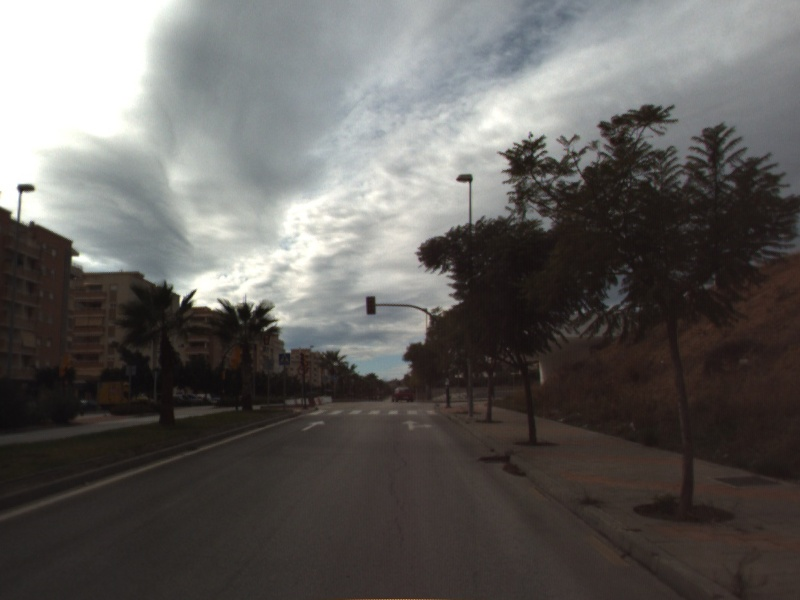STRAIGHT: (299, 418, 327, 433)
STRAIGHT_RIGHT: (400, 418, 434, 432)
